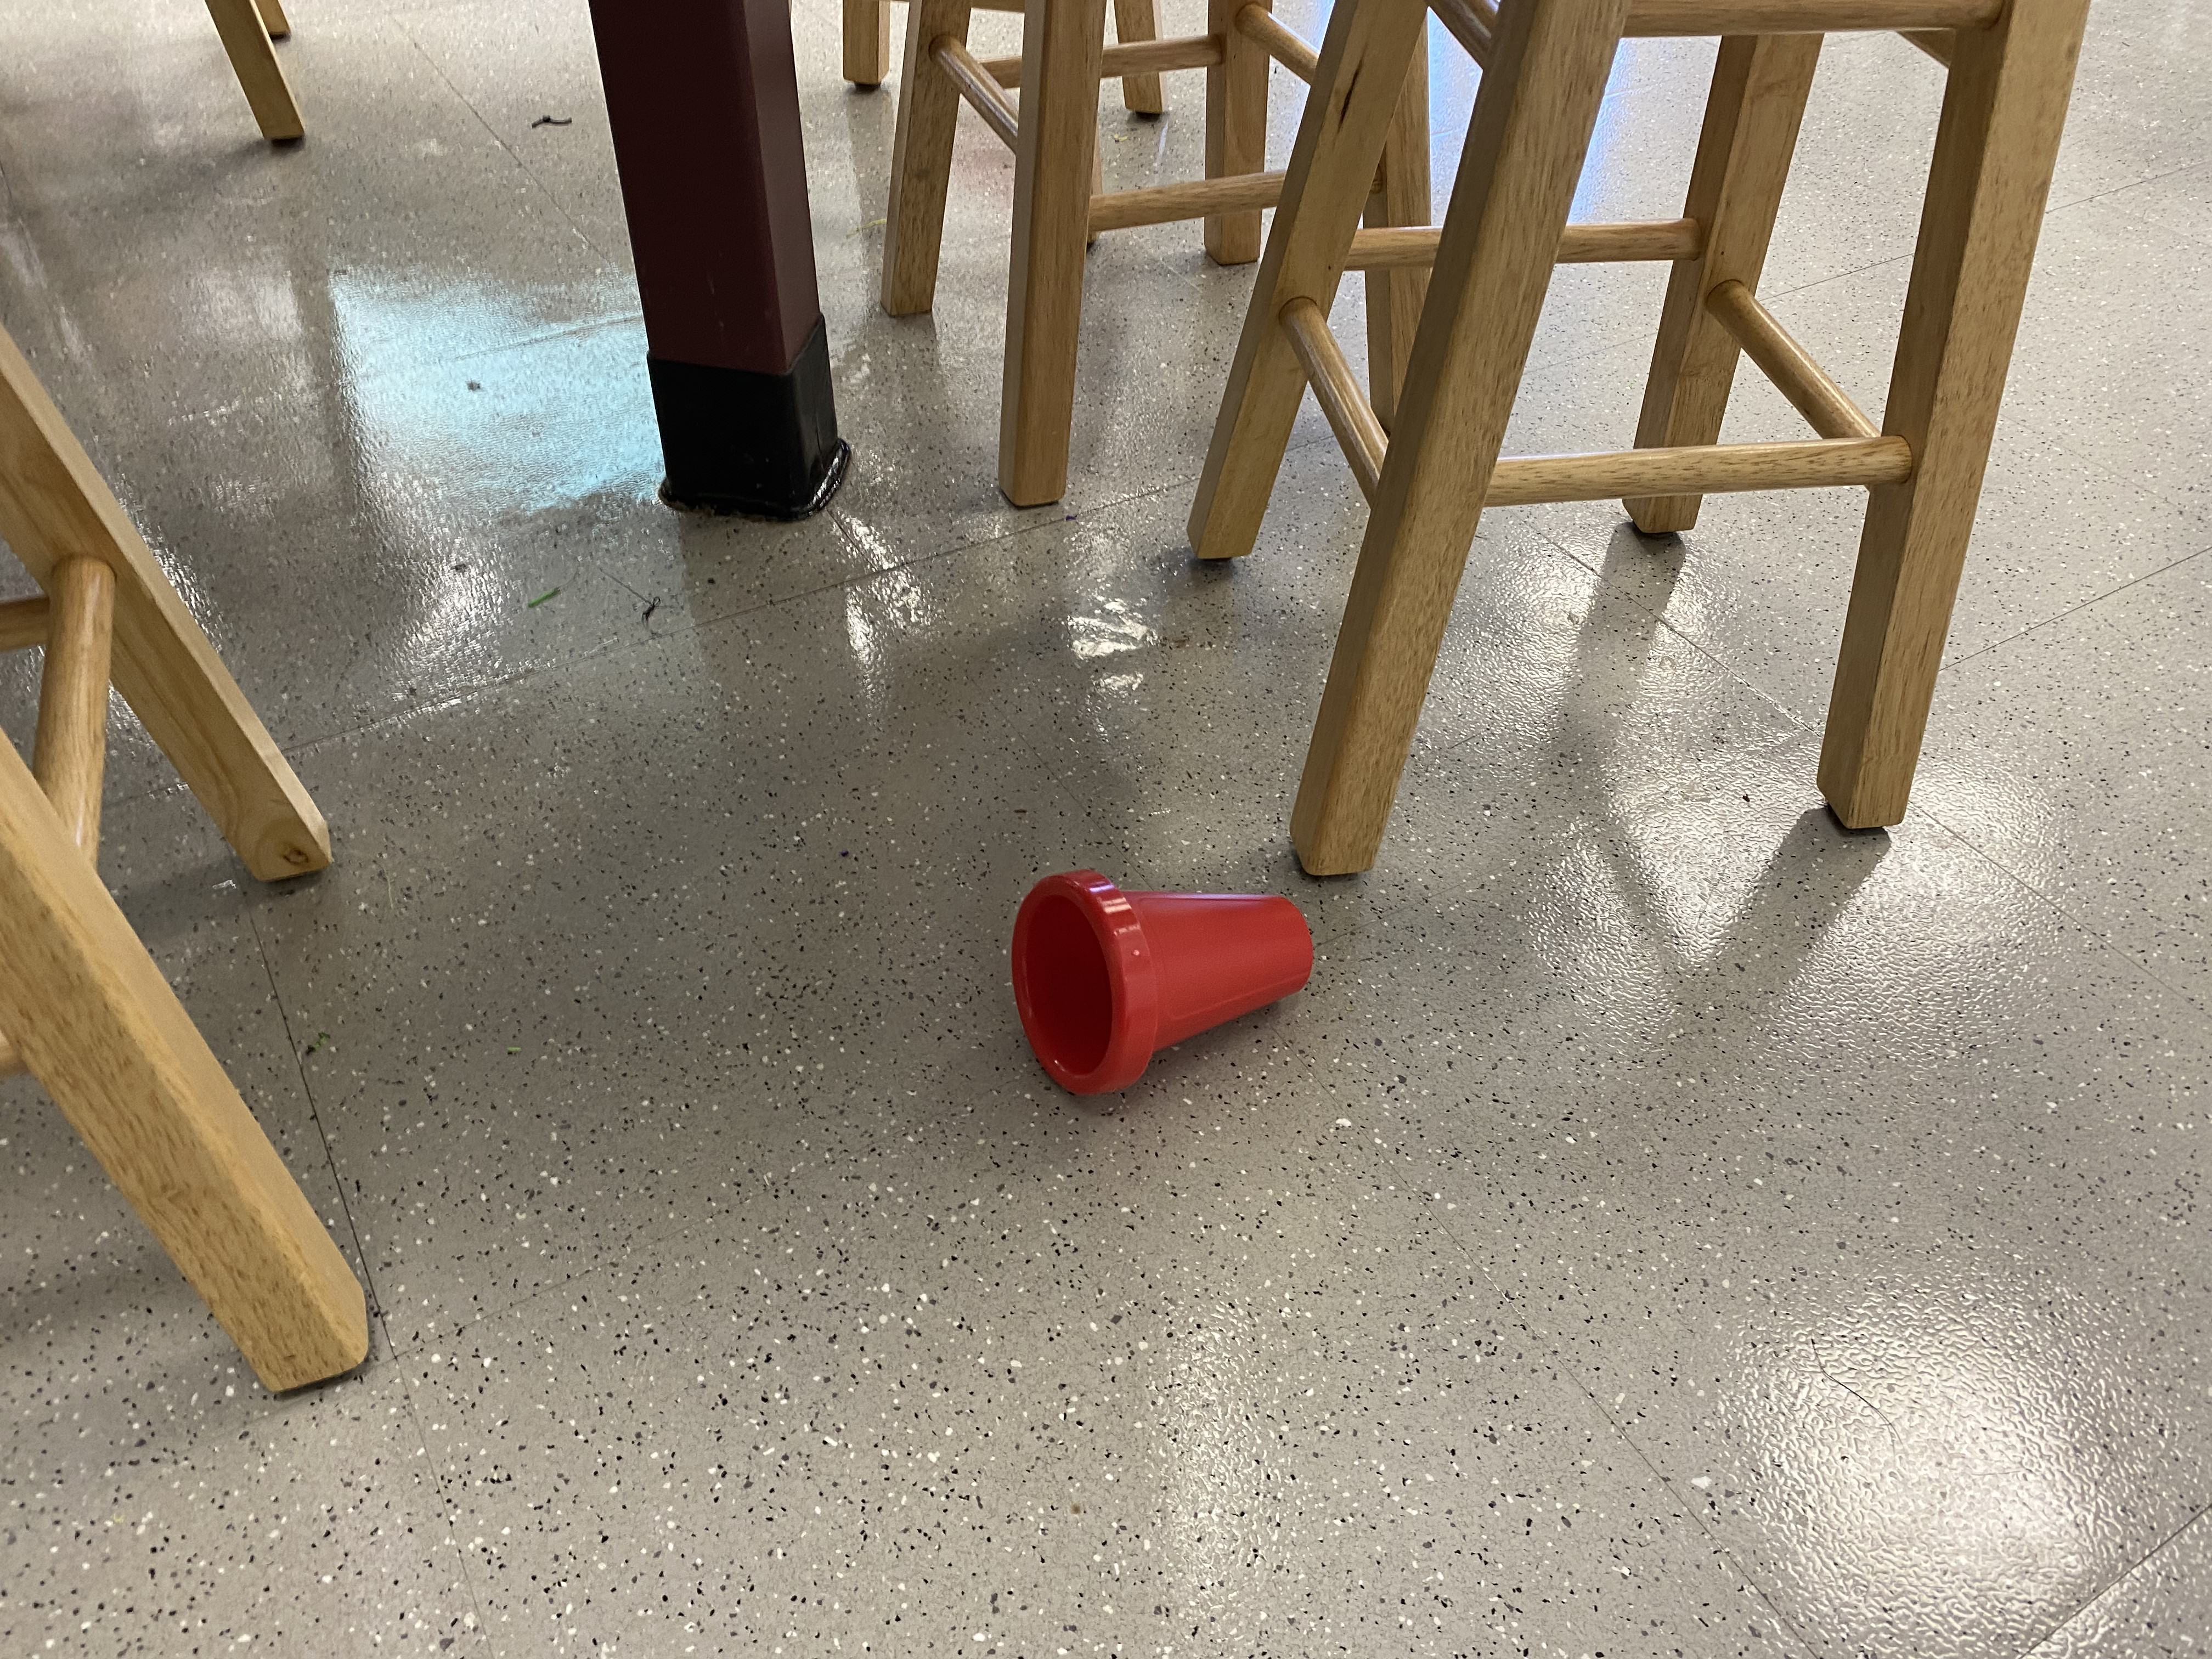redCone: (1001, 854, 1324, 1112)
